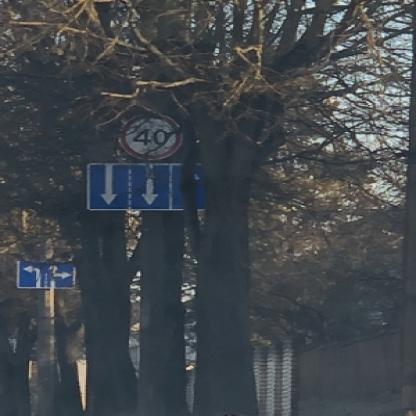speedlimit: (118, 111, 177, 157)
